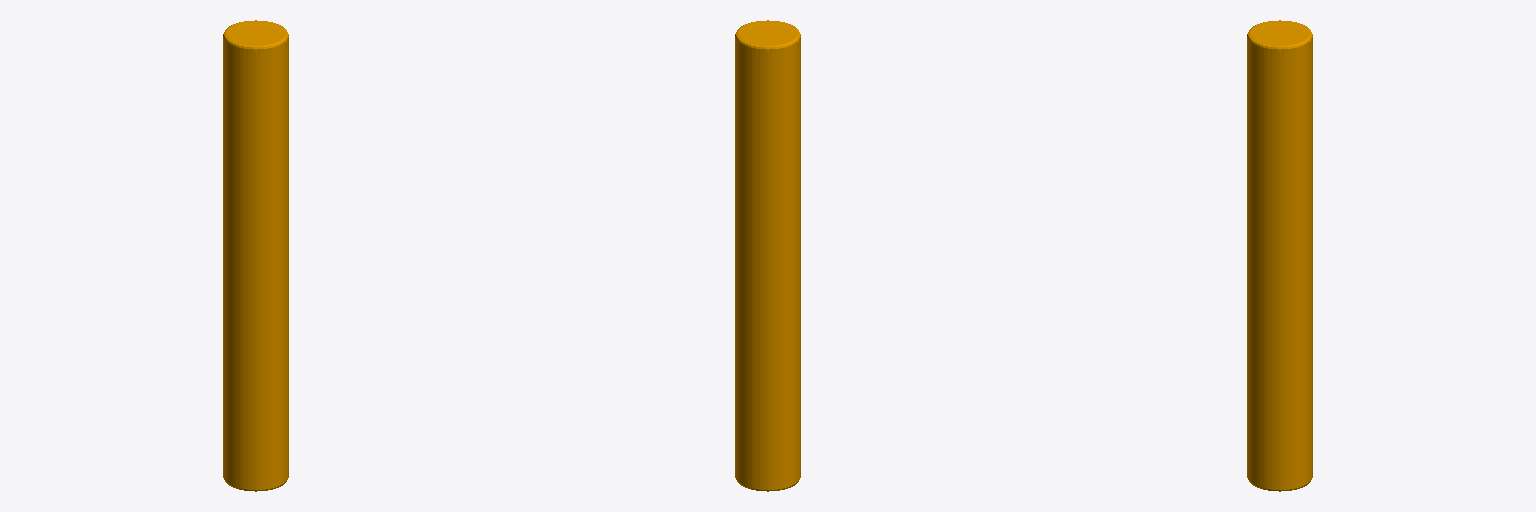
robot.urdf — bolt_small_starting_point:
<?xml version="1.0" ?>
<robot name="bolt_small_starting_point">
  <link name="base_link">
    <inertial>
      <origin xyz="0 0 0.03" rpy="0 0 0"/>
      <mass value="0.00150796447"/>
      <inertia ixx="4.60431819e-07" ixy="0" ixz="0" iyy="4.60431819e-07" iyz="0" izz="1.60849544e-08"/>
    </inertial>
    <visual name="visual">
      <origin xyz="0 0 0" rpy="0 0 0"/>
      <geometry>
        <mesh filename="meshes/visual.obj" scale="1 1 1"/>
      </geometry>
    </visual>
    <collision name="bolt">
      <origin xyz="0 0 0" rpy="0 0 0"/>
      <geometry>
        <mesh filename="meshes/collision/bolt.obj" scale="1 1 1"/>
      </geometry>
    </collision>
  </link>
</robot>

--- Facts derived from the render (not from the file) ---
Views: 3 orthographic renders of the robot side by side, from view 1: azimuth 30°, elevation 25°; view 2: azimuth 150°, elevation 25°; view 3: azimuth 270°, elevation 25°.
Robot: bolt_small_starting_point — 1 links, 0 joints (none); root link base_link; default pose: all joints at 0.
Links seen in each view (by area): view 1: base_link; view 2: base_link; view 3: base_link.
Link boxes in pixels (box(x1,y1,x2,y2)): base_link: box(223, 20, 288, 491); base_link: box(735, 20, 800, 491); base_link: box(1247, 20, 1312, 491).
Size in the robot's own frame: 0.008 by 0.008 by 0.06 metres.
1 mesh visuals loaded from 1 distinct referenced files (1 OBJ).
